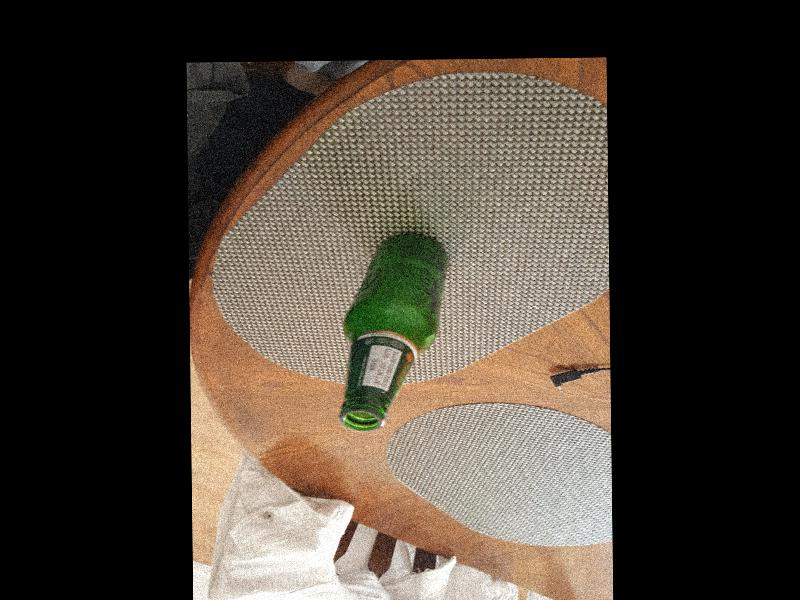Beer: (345, 232, 451, 428)
